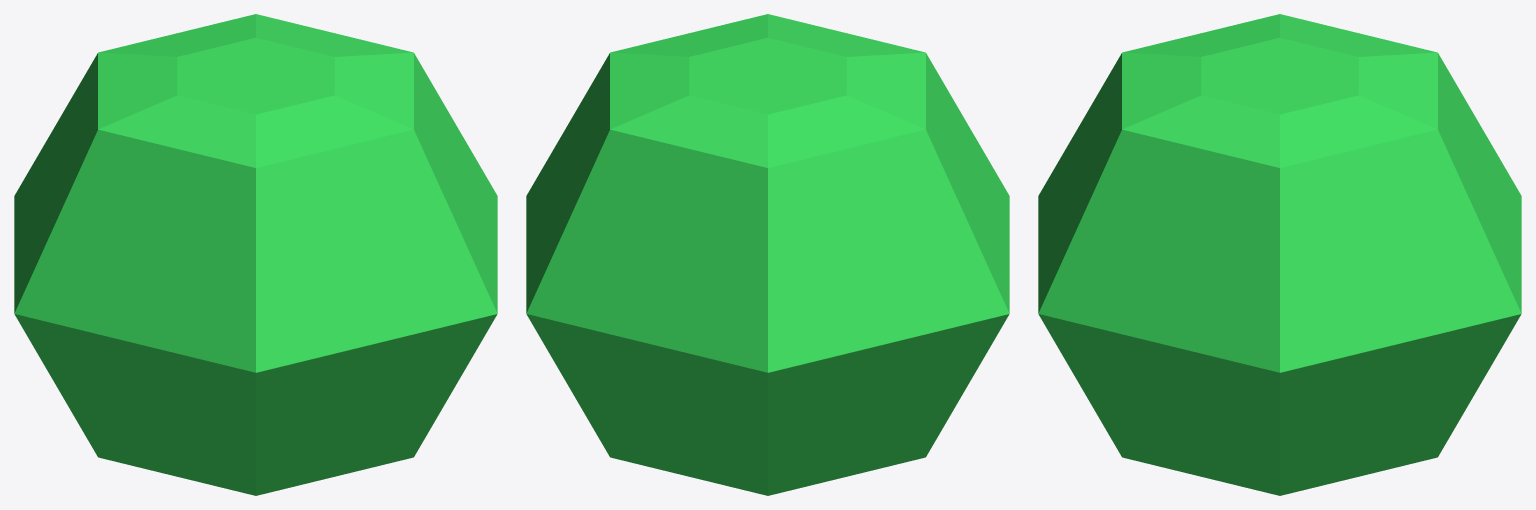
The model's file is Green.fbx.
3 views of the same model, side by side, from view 1: azimuth 30°, elevation 25°; view 2: azimuth 150°, elevation 25°; view 3: azimuth 270°, elevation 25° (orthographic).
Visible parts, largest first — view 1: Cylinder; view 2: Cylinder; view 3: Cylinder.
Part boxes in pixels (x1=…): Cylinder: x1=14, y1=14, x2=497, y2=495; Cylinder: x1=526, y1=14, x2=1009, y2=495; Cylinder: x1=1038, y1=14, x2=1521, y2=495.
Bounding box in the file's own units: 200 × 141 × 173.
